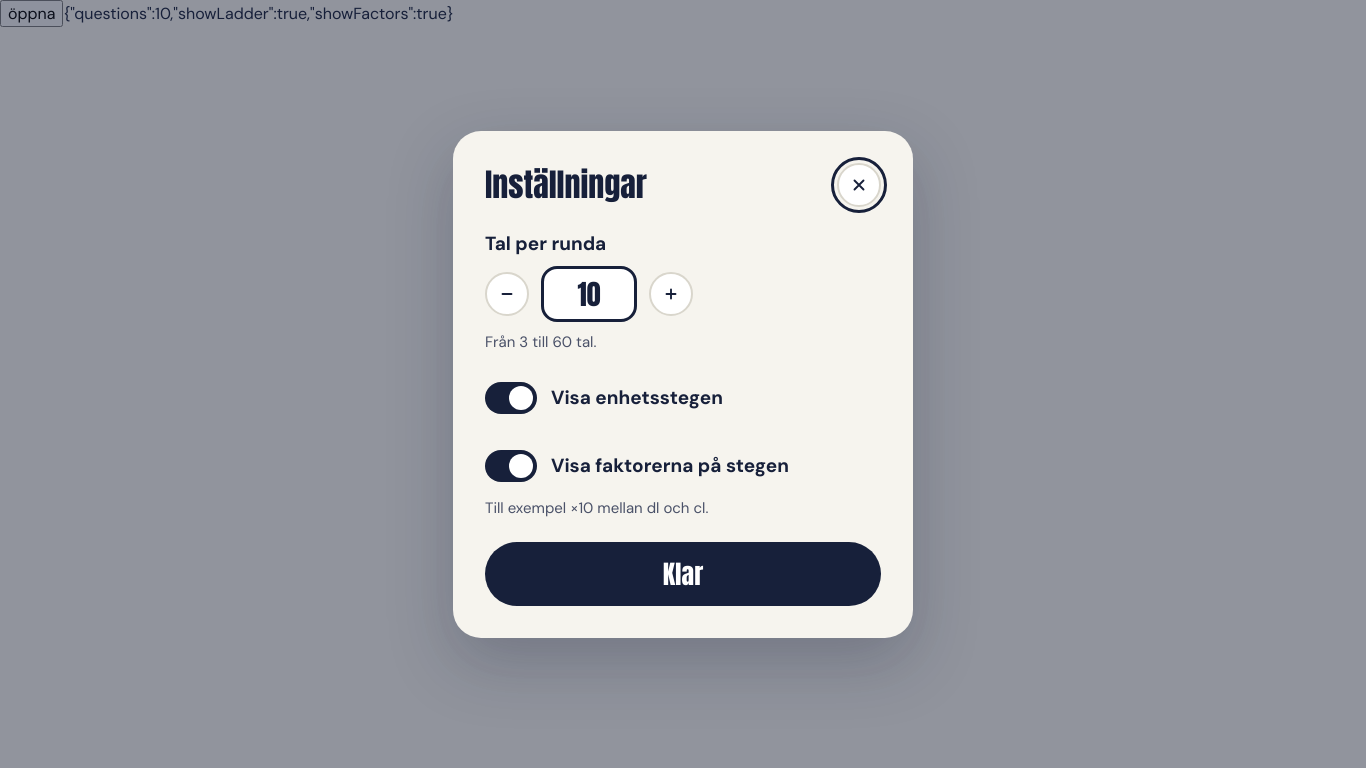
Test case: SettingsDialog › changes the count with the + and − buttons
Click the button named "Fler tal": (671, 294) [649,272,693,316]
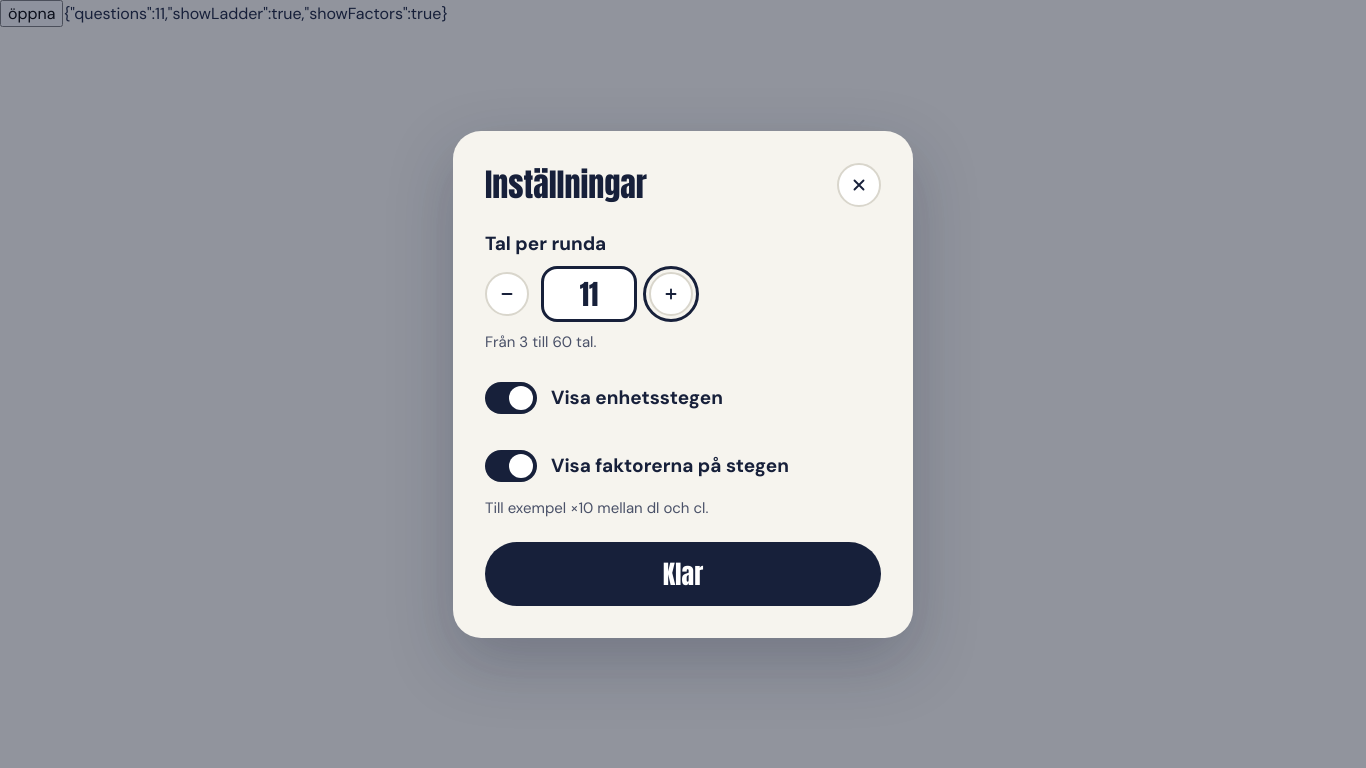
Click the button named "Fler tal": (671, 294) [649,272,693,316]
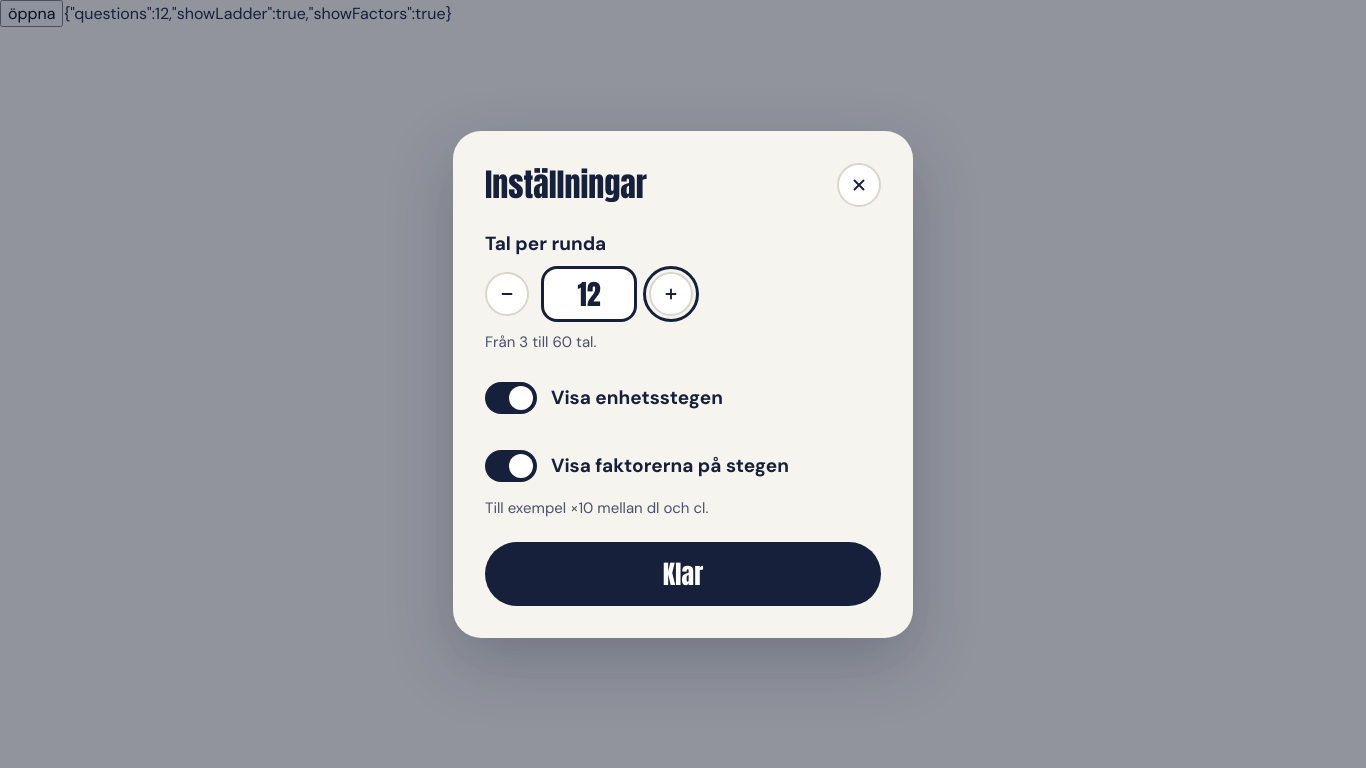
Click the button named "Färre tal": (507, 294) [485,272,529,316]
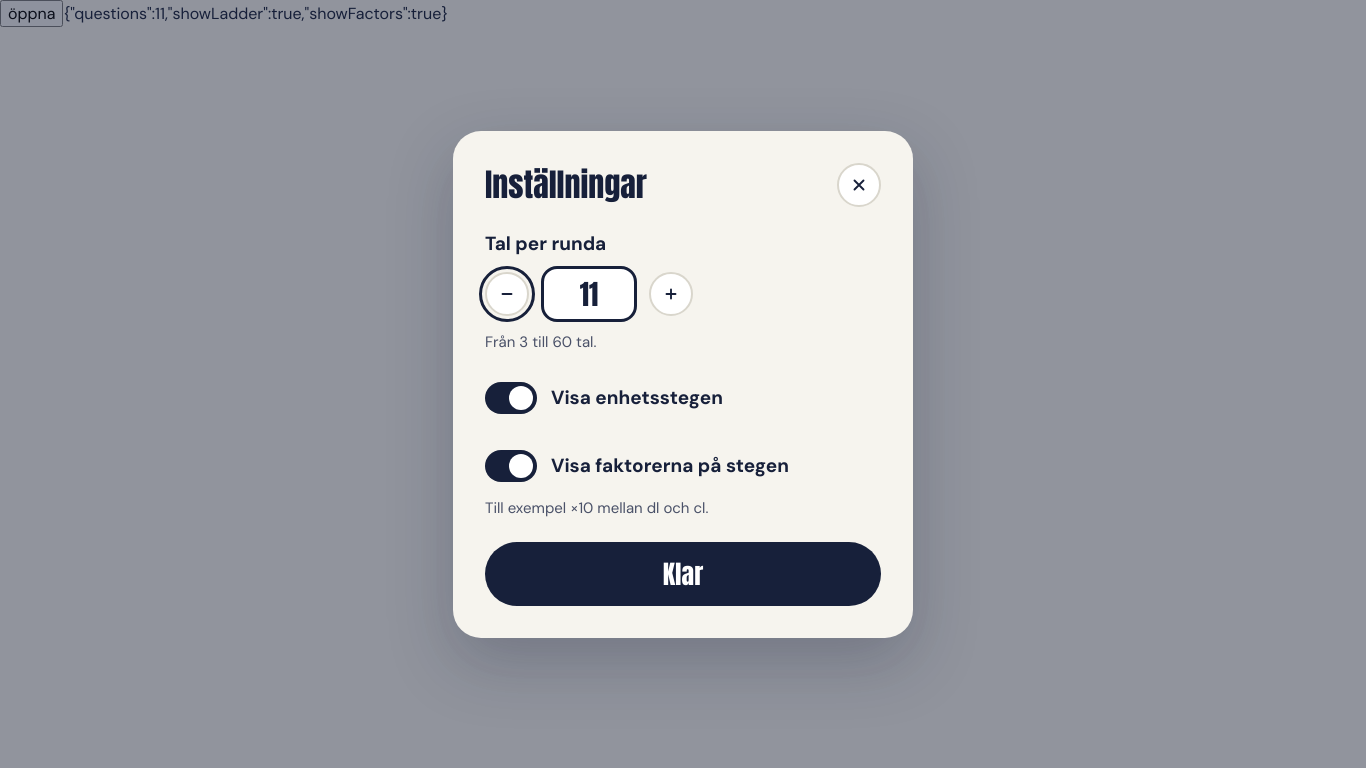
Check: the field labelled "Tal per runda" holds "11", box [541,266,637,322]
